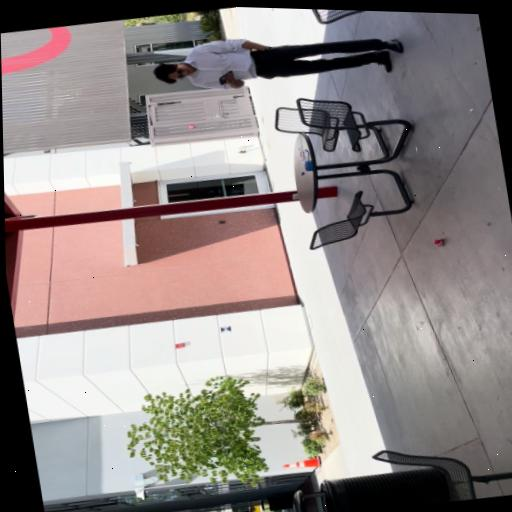target2: (221, 325, 233, 333)
